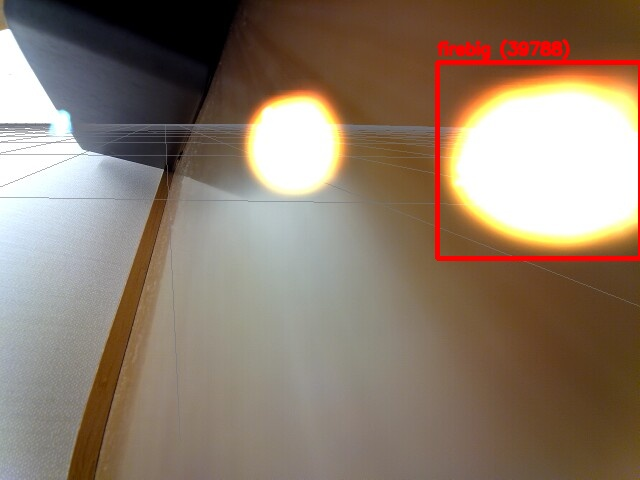firebig: (437, 62, 640, 258)
